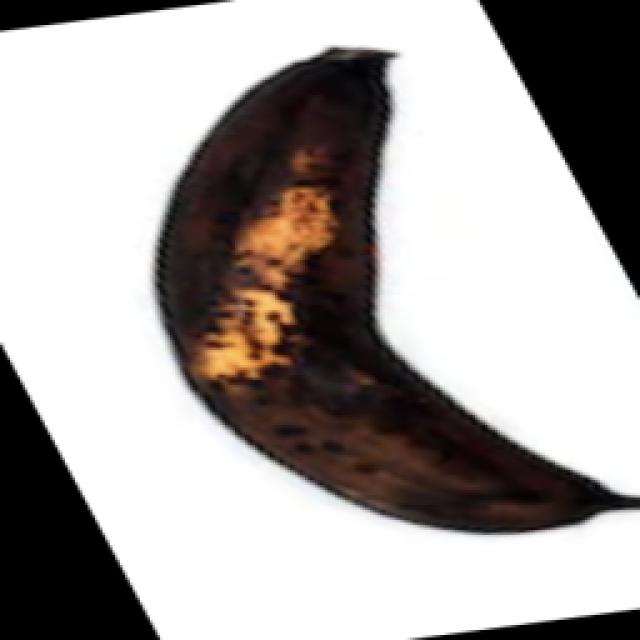Rotten_Banana: (122, 8, 619, 586)
